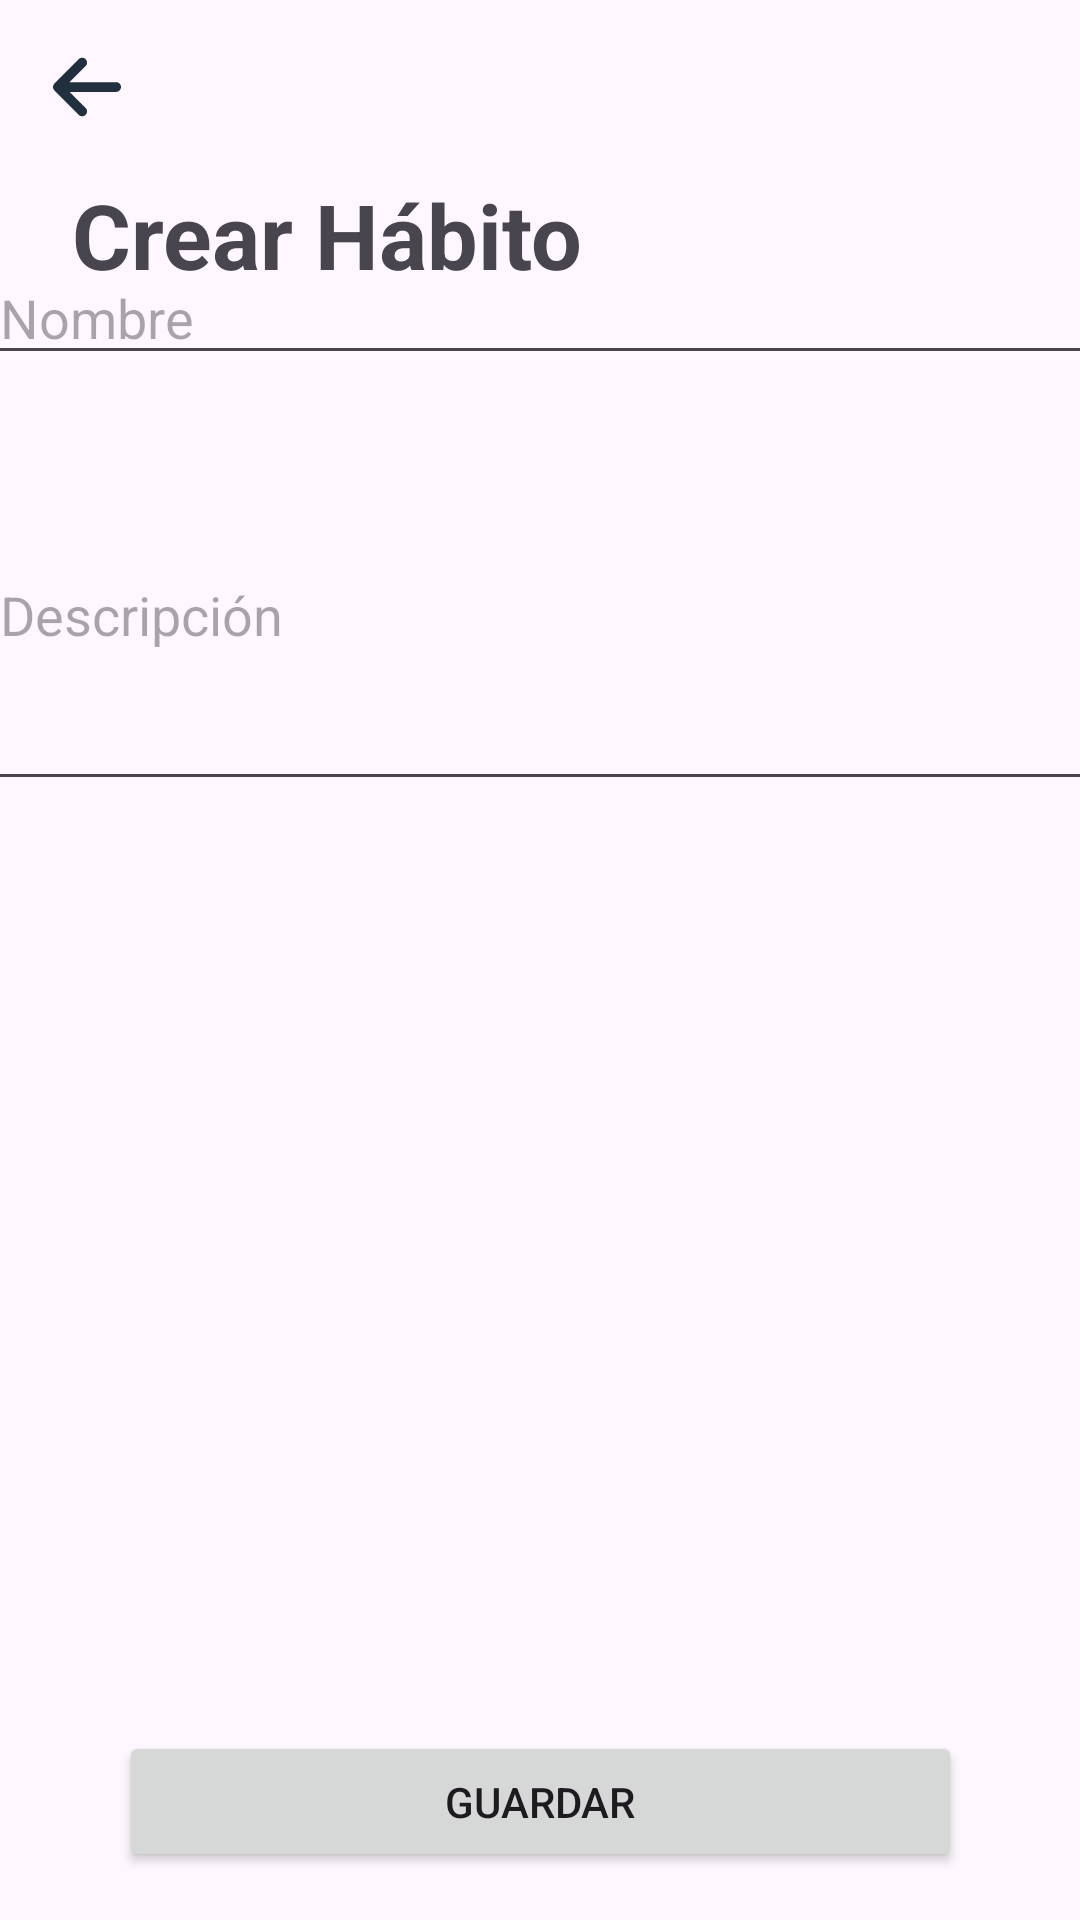

Named icons in this screenshot (1080w x 1920h) and their centers, (x,y):
go back arrow: (87,87)
